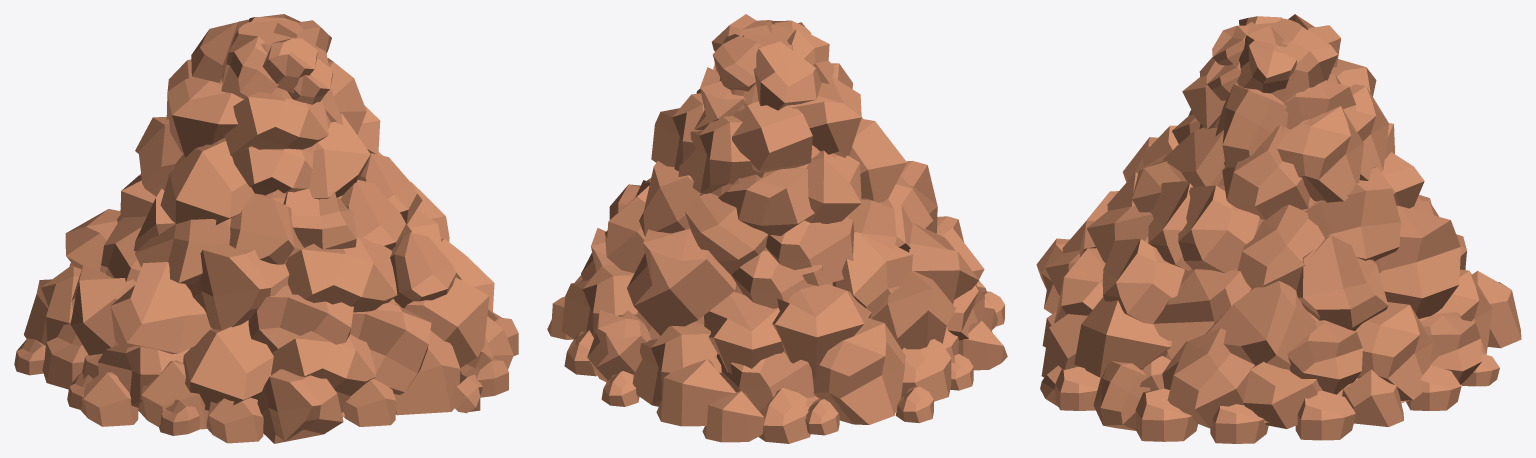
Rendered from far_mountain.fbx.
3 renders of one model, left to right at view 1: azimuth 30°, elevation 25°; view 2: azimuth 150°, elevation 25°; view 3: azimuth 270°, elevation 25°, orthographic. The views are drawn at different scales.
Parts seen in each view (by area): view 1: Cylinder; view 2: Cylinder; view 3: Cylinder.
Boxes of the visible parts, x1,y1,x2,y2 form: Cylinder: [14, 14, 518, 443]; Cylinder: [547, 14, 1007, 443]; Cylinder: [1036, 14, 1521, 443].
Bounding box in the file's own units: 815 × 651 × 845.
